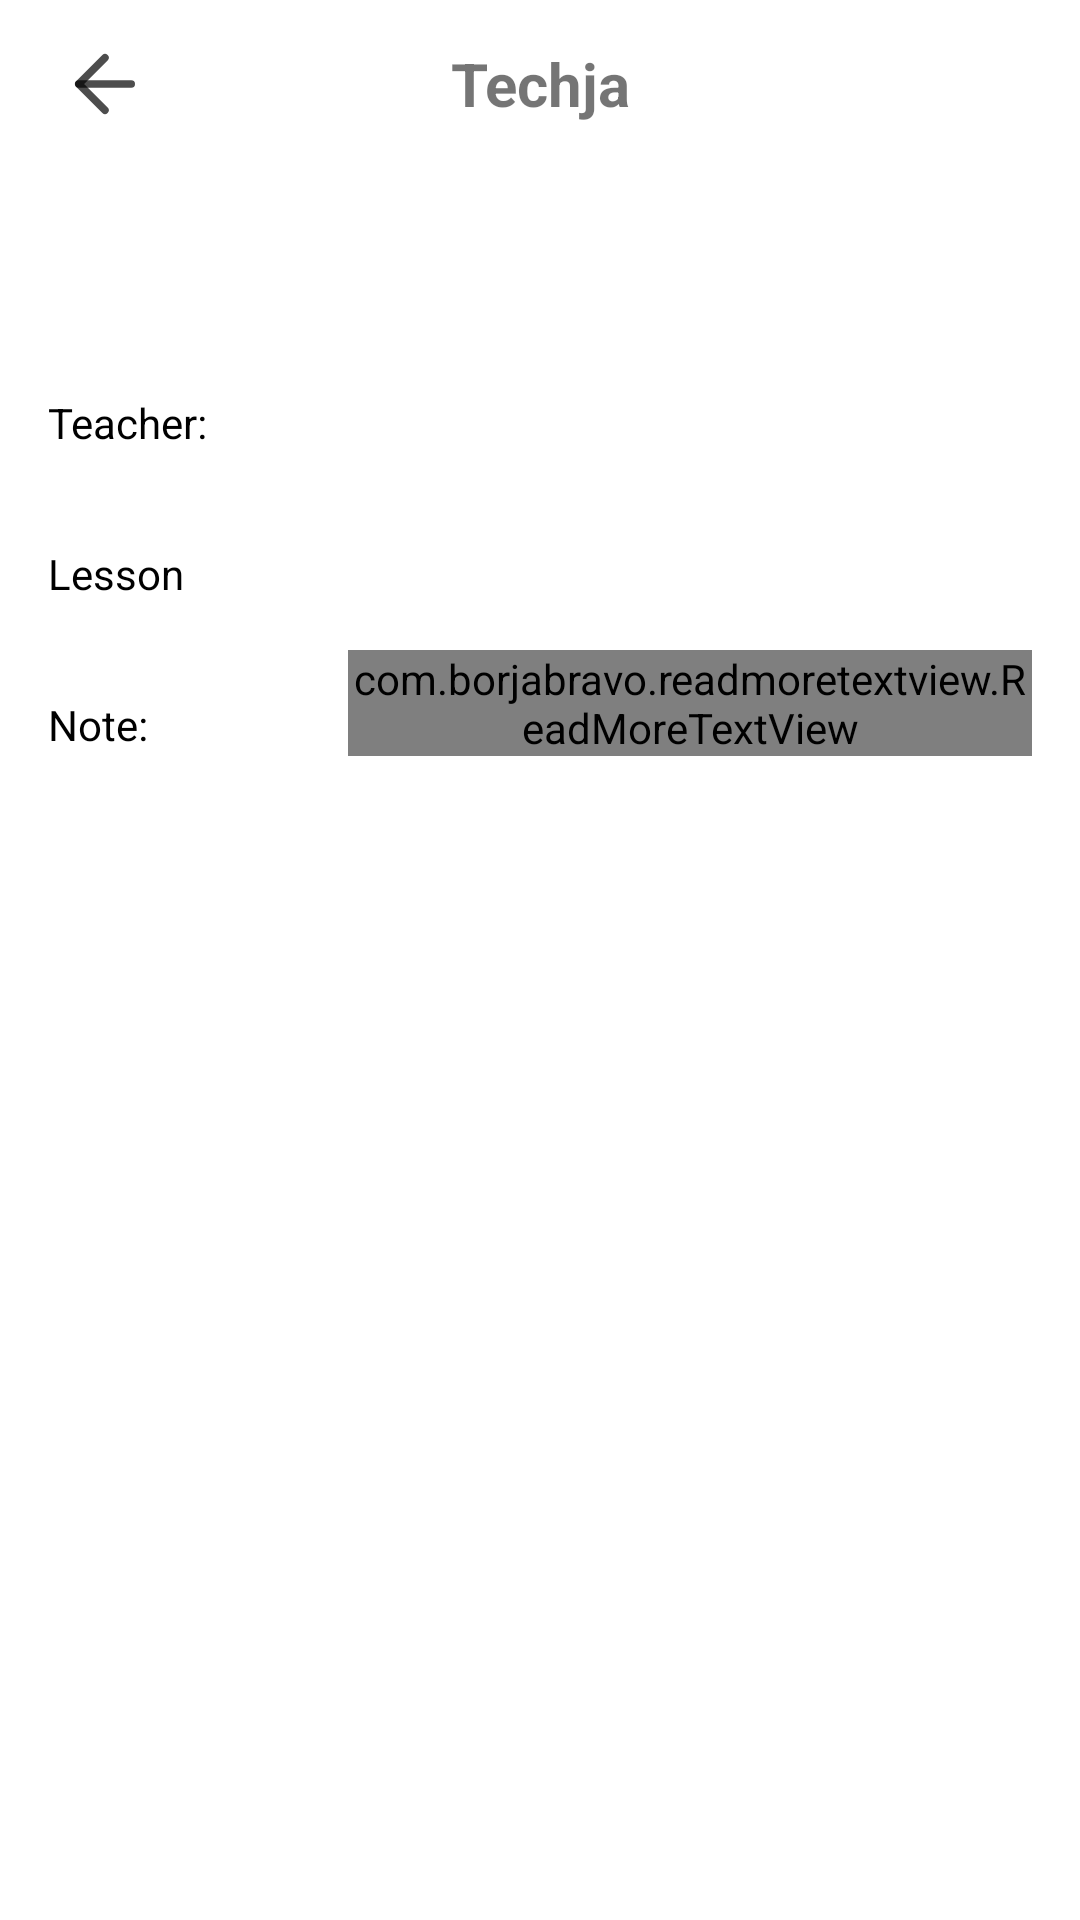

Screen size 1080 × 1920. Icon name, then its center in pixels as point (x, y):
back: point (105, 84)
